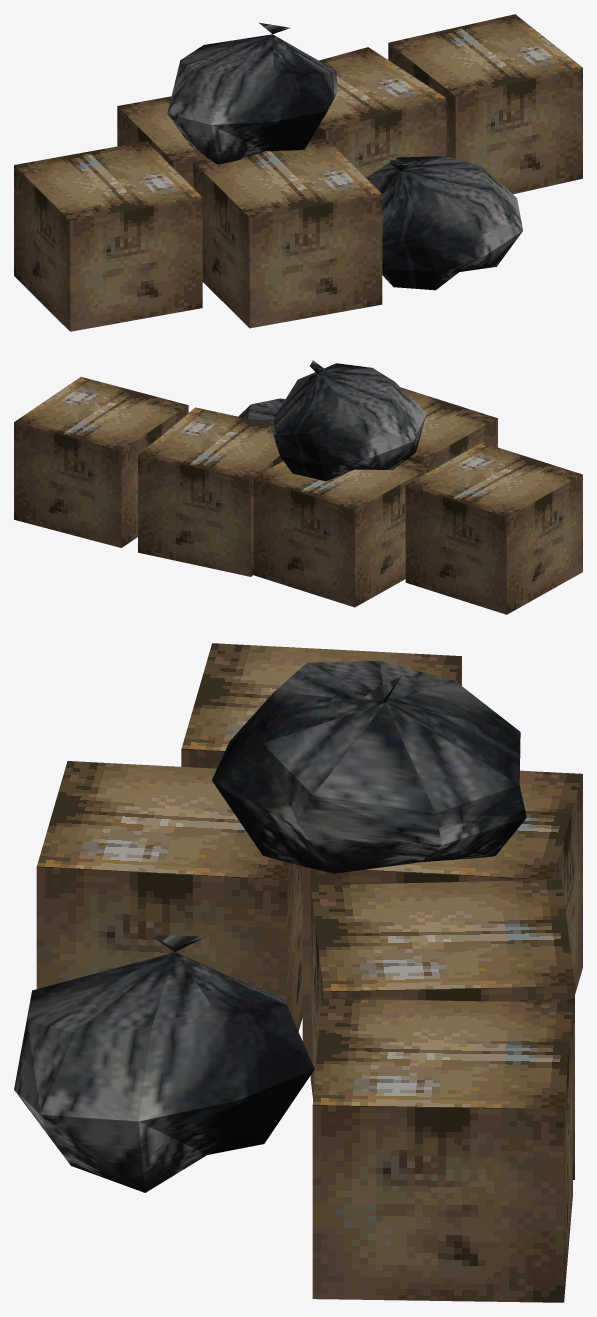
The model's file is dyn_box_pile_3.obj.
3 renders of one model, top to bottom at view 1: azimuth 30°, elevation 25°; view 2: azimuth 150°, elevation 25°; view 3: azimuth 270°, elevation 25°, orthographic. The views are drawn at different scales.
Visible parts, largest first — view 1: DYN_BOX_PILE_3; view 2: DYN_BOX_PILE_3; view 3: DYN_BOX_PILE_3.
Part boxes in pixels (bbox=[...]): DYN_BOX_PILE_3: bbox=[14, 14, 582, 331]; DYN_BOX_PILE_3: bbox=[14, 360, 582, 614]; DYN_BOX_PILE_3: bbox=[14, 643, 582, 1302].
Bounding box in the file's own units: 2.8 × 1.04 × 1.45.
